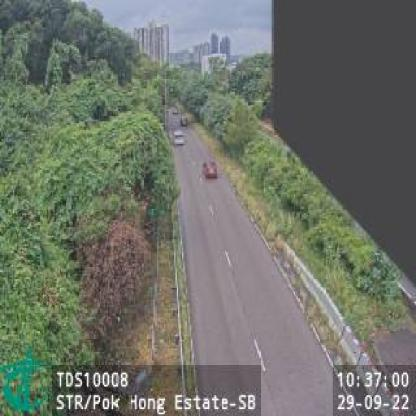Car: (201, 158, 219, 182), (170, 130, 186, 149), (180, 115, 188, 127)
